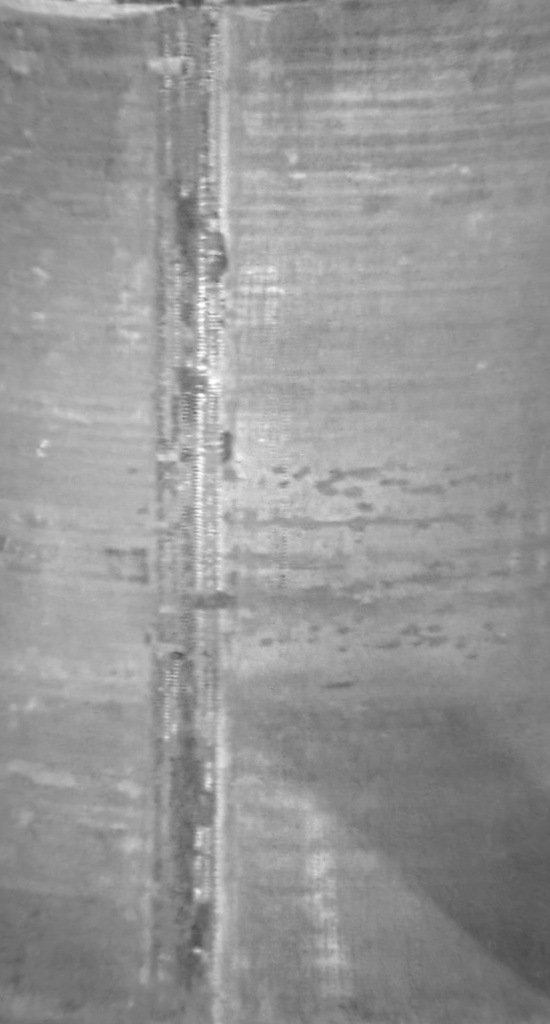splice: (132, 1, 235, 1023)
